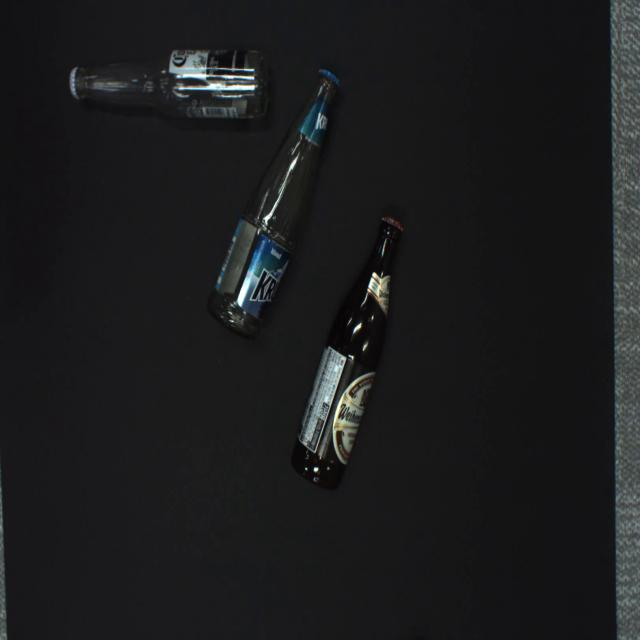beer-bottle: (208, 71, 337, 336), (294, 217, 402, 488), (69, 49, 270, 120)
